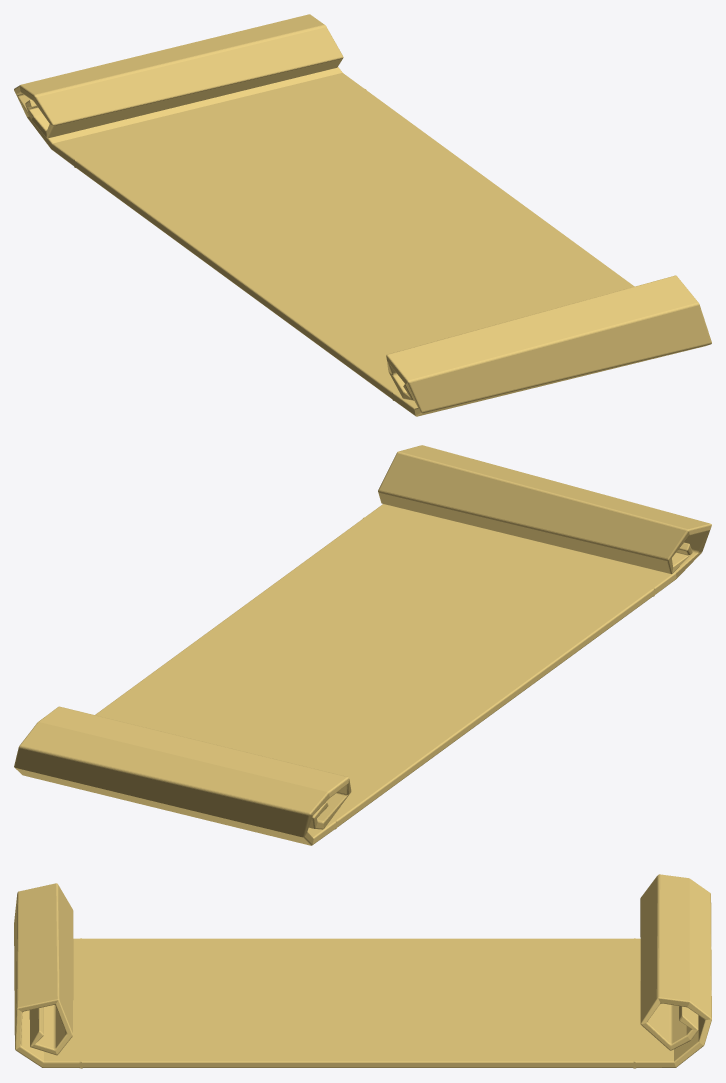
File: scroll_open.glb
3 renders of one model, top to bottom at view 1: azimuth 30°, elevation 25°; view 2: azimuth 150°, elevation 25°; view 3: azimuth 270°, elevation 25°, orthographic. The views are drawn at different scales.
Visible parts, largest first — view 1: Plane; view 2: Plane; view 3: Plane.
Boxes of the visible parts, x1,y1,x2,y2 form: Plane: (14, 14, 711, 416); Plane: (14, 445, 711, 845); Plane: (14, 874, 711, 1068).
Size of the model in its own units: 0.3462 by 0.072 by 0.7565.
